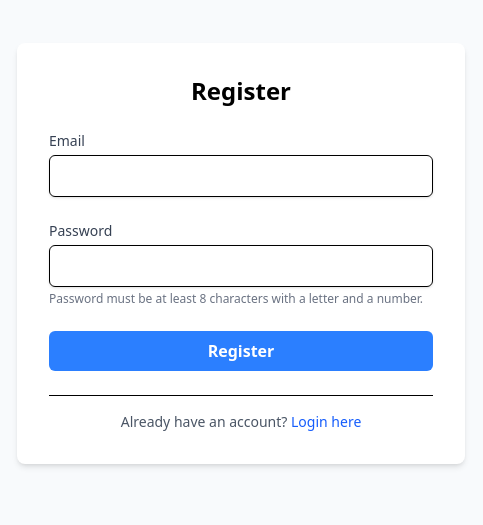
Test: Register Component › shows an error message for short passwords
Step 1. Type "test@example.com" into the field labelled "Email" → (241, 176), box 49,154 -> 433,196
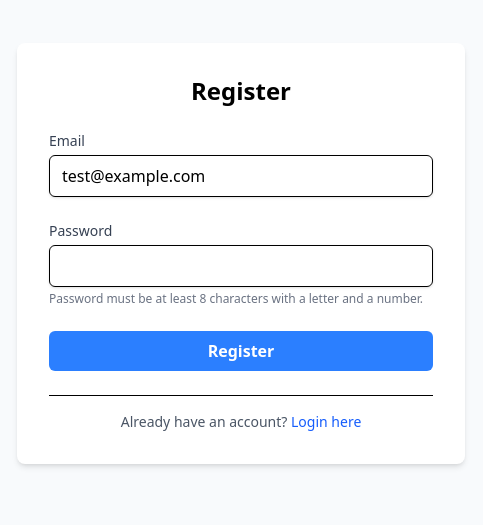
Step 2. Type "short" into the password field labelled "Password" → (241, 266), box 49,244 -> 433,286
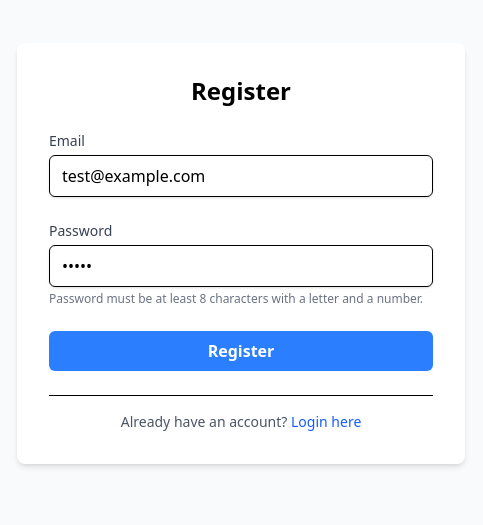
Step 3. Submit the form named "Register", box 49,130 -> 433,370
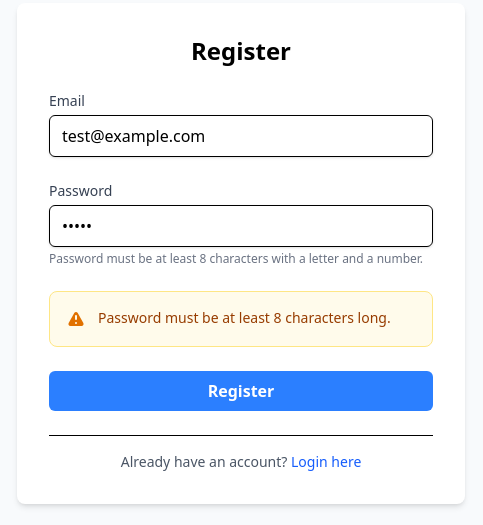
Check: the text "Password must be at least 8 characters long." is shown, box 98,308 -> 416,328
